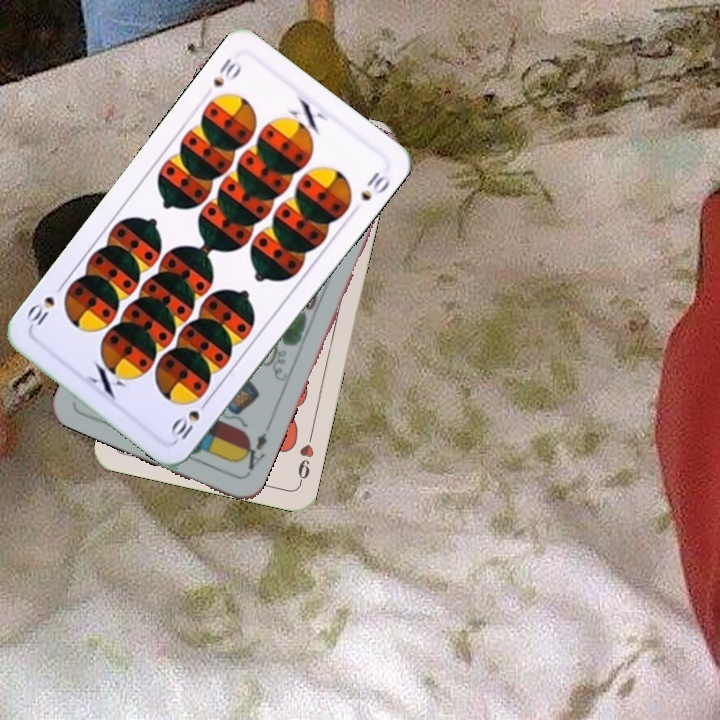EA: (235, 428, 270, 478)
H9: (293, 428, 317, 487)
S10: (167, 394, 213, 442), (209, 53, 244, 90)
